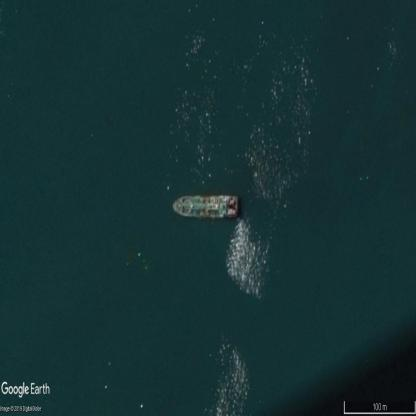ship: (171, 193, 238, 217)
